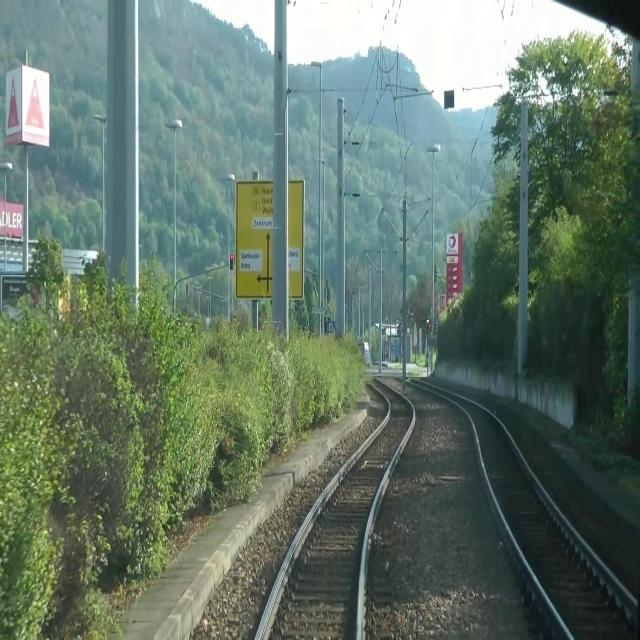rail-track: (460, 401, 640, 639), (261, 376, 411, 639)
